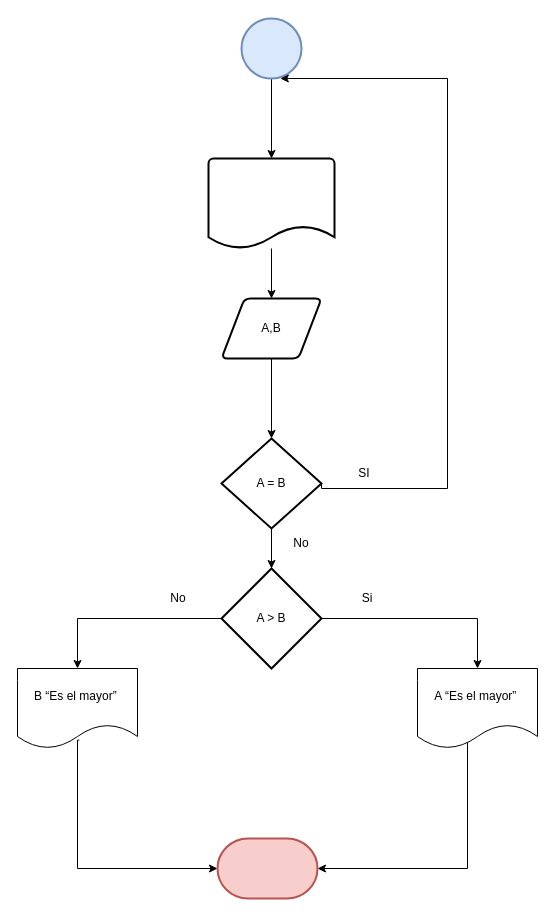
The diagram is 555 pixels wide and 916 high, and some of its shapes have lost their labels. The shapes that lost their labels are listed below. From the top down, each one's box as (x1, y1, x2, y2) in pixels, then its label:
(240, 17, 302, 79): Inicio
(207, 157, 335, 249): “Introduzca dos valores distintos”
(216, 837, 318, 899): Fin
